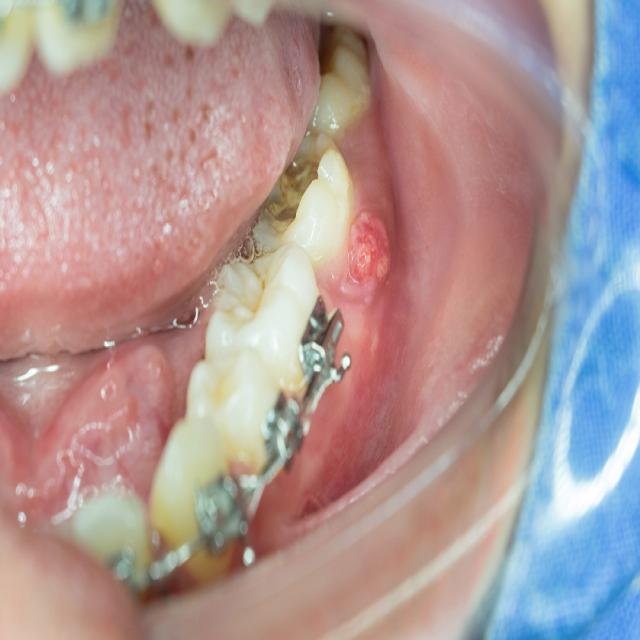abscess: (330, 212, 412, 283)
